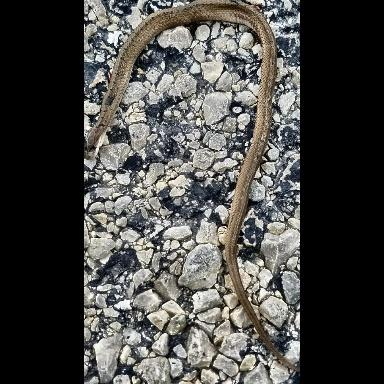snake: (83, 0, 302, 376)
